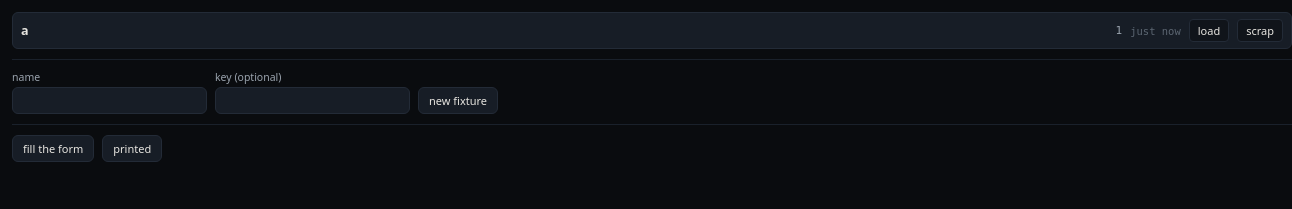
FixturePanel — load / unload › loading when the server never wires a plate at all (no proof key) shows a neutral loaded state — no unverified claim
Click the button "load": (1209, 30) top-left (1189, 19), bottom-right (1229, 42)
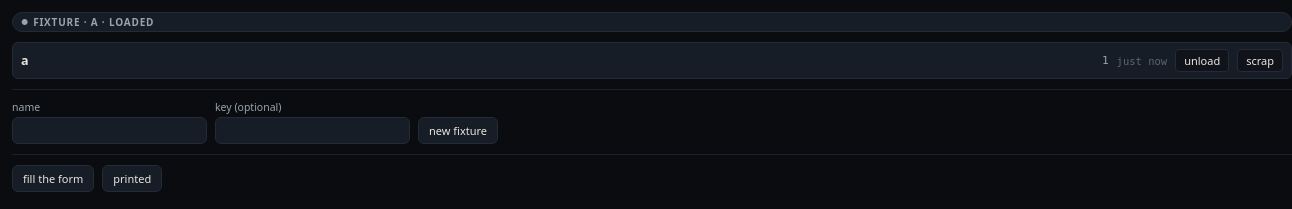
Expected: the text "● fixture · a · loaded" is shown, top-left (12, 12), bottom-right (1291, 32)
